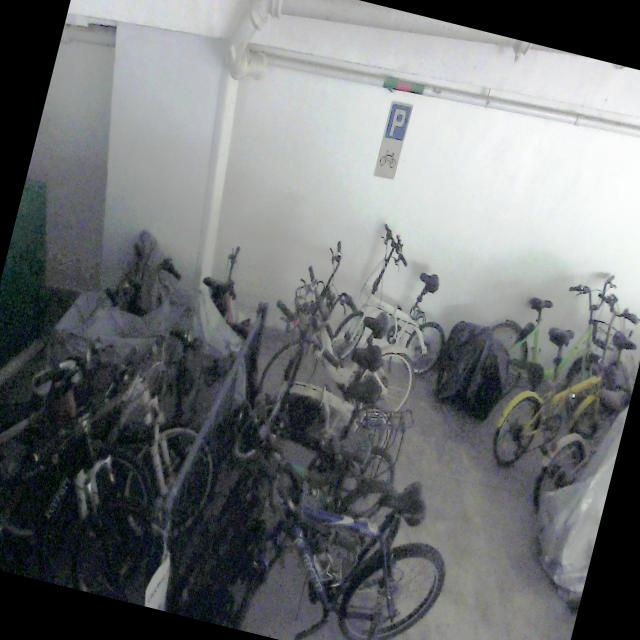bike: (0, 288, 245, 560), (166, 427, 465, 640), (0, 309, 194, 597), (210, 380, 427, 586), (258, 228, 442, 425), (232, 296, 416, 492), (486, 272, 640, 490), (466, 246, 638, 441), (328, 217, 470, 386)
